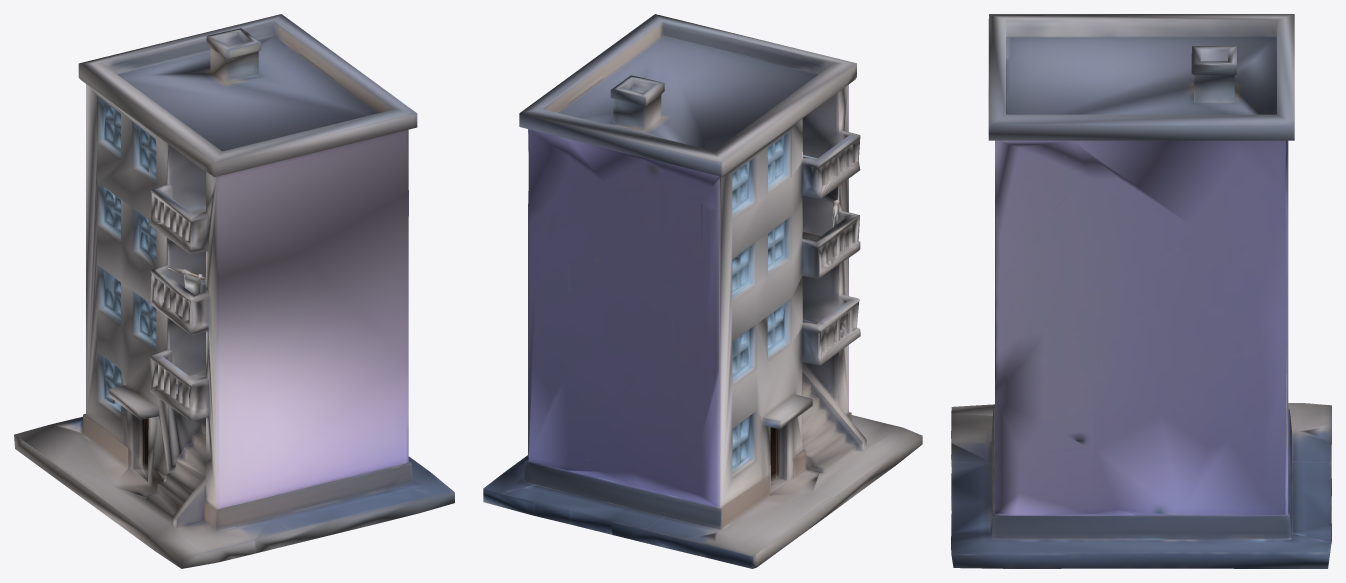
Rendered from toplukonut.glb.
3 renders of one model, left to right at view 1: azimuth 30°, elevation 25°; view 2: azimuth 150°, elevation 25°; view 3: azimuth 270°, elevation 25°, orthographic. The views are drawn at different scales.
Visible parts, largest first — view 1: node_0; view 2: node_0; view 3: node_0.
Boxes of the visible parts, <box> form: node_0: <box>14,14,454,568</box>; node_0: <box>483,14,922,568</box>; node_0: <box>951,14,1331,568</box>.
Bounding box in the file's own units: 0.5924 × 0.8384 × 0.6344.
1 material, 1 textured.
